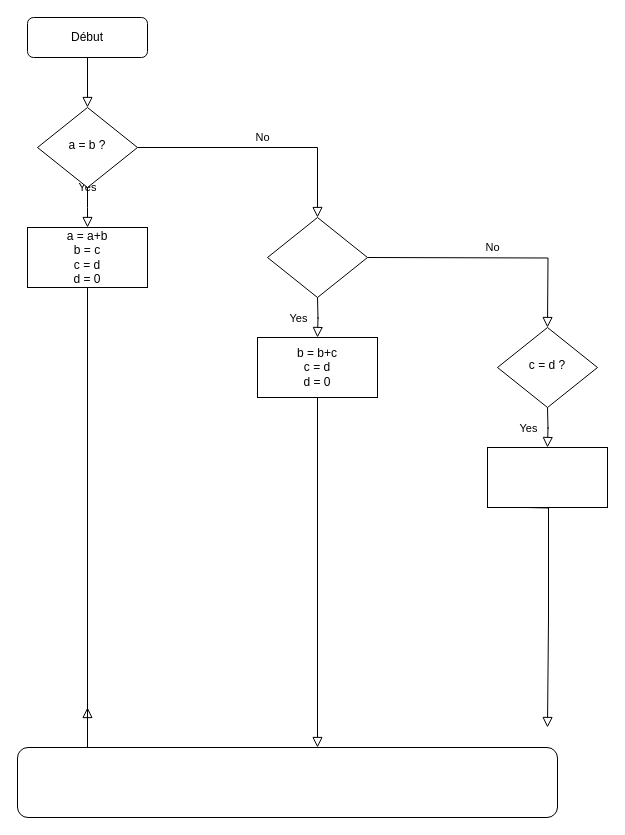
This 625x835 diagram has some shape labels left out. Each missing label, with the box of its shape:
b = c ?: (266, 216, 368, 298)
c = c+d d = 0: (486, 446, 608, 508)
Fin: (16, 746, 558, 818)
